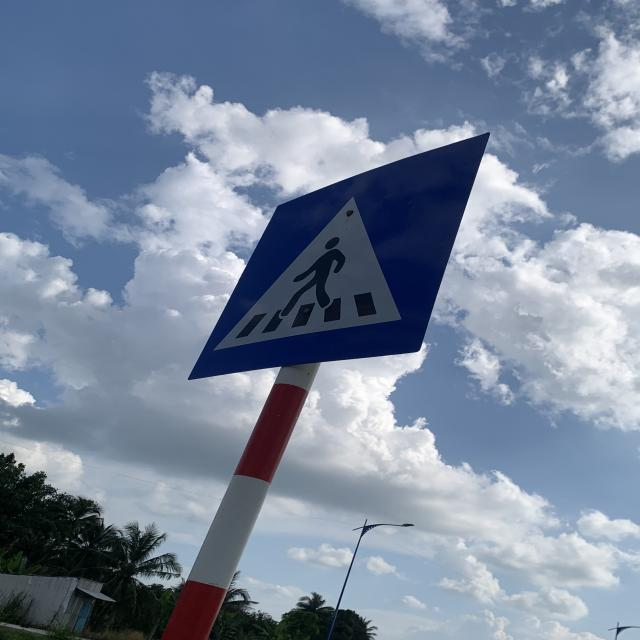Giao_Nhau_Duong_Uu_Tien: (191, 131, 492, 378)
